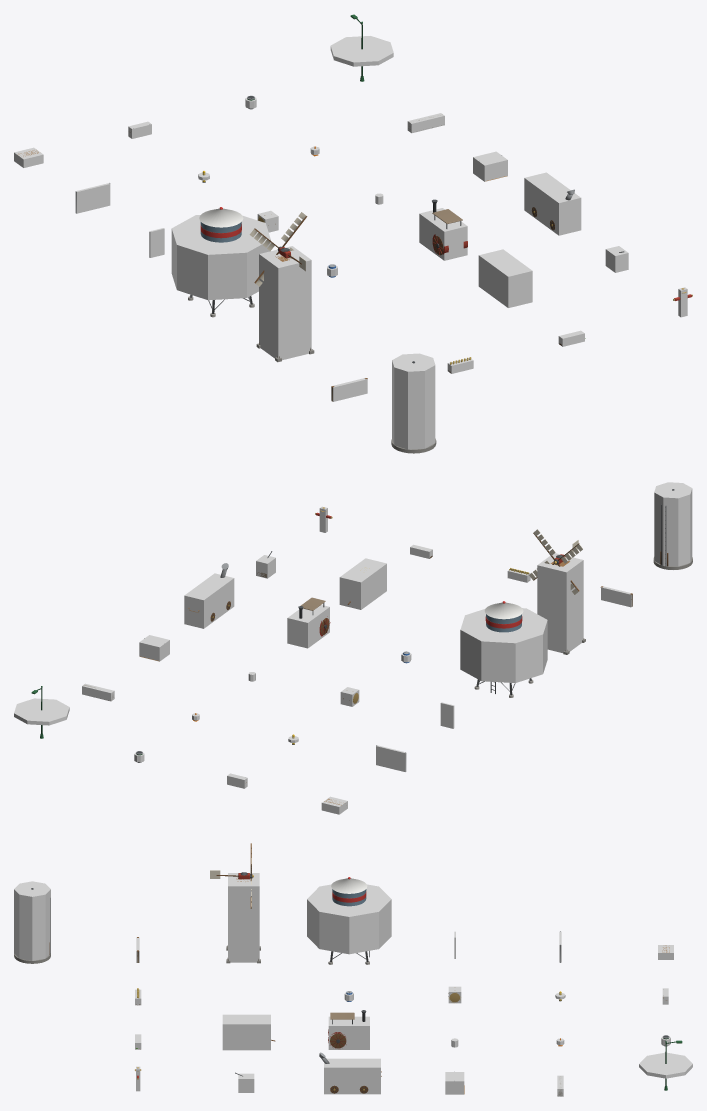
Rendered from props.glb.
3 renders of one model, top to bottom at view 1: azimuth 30°, elevation 25°; view 2: azimuth 150°, elevation 25°; view 3: azimuth 270°, elevation 25°, orthographic. The views are drawn at different scales.
Visible parts, largest first — view 1: COL_water-tower, COL_windmill, COL_silo, COL_thresher, COL_hay-wagon, COL_steam-tractor, COL_street-lamp, water-tower__Kit_Paint, COL_tent, COL_chain-link-fence-panel; view 2: COL_water-tower, COL_windmill, COL_silo, COL_thresher, COL_hay-wagon, COL_steam-tractor, COL_street-lamp, water-tower__Kit_Paint, COL_tent, COL_chain-link-fence-panel; view 3: COL_water-tower, COL_silo, COL_windmill, COL_thresher, COL_hay-wagon, COL_steam-tractor, COL_street-lamp, water-tower__Kit_Paint, COL_tent, steam-tractor__Kit_Wood.
Boxes of the visible parts, x1,y1,x2,y2 form: COL_water-tower: [171, 215, 270, 300]; COL_windmill: [259, 246, 311, 360]; COL_silo: [392, 353, 435, 449]; COL_thresher: [524, 172, 581, 235]; COL_hay-wagon: [478, 249, 532, 307]; COL_steam-tractor: [419, 208, 467, 260]; COL_street-lamp: [330, 36, 393, 66]; water-tower__Kit_Paint: [199, 207, 243, 242]; COL_tent: [473, 151, 507, 181]; COL_chain-link-fence-panel: [76, 183, 110, 213]; COL_water-tower: [460, 608, 547, 682]; COL_windmill: [537, 553, 583, 652]; COL_silo: [654, 482, 692, 566]; COL_thresher: [184, 573, 234, 628]; COL_hay-wagon: [339, 558, 386, 609]; COL_steam-tractor: [287, 605, 329, 648]; COL_street-lamp: [14, 698, 69, 725]; water-tower__Kit_Paint: [484, 601, 523, 632]; COL_tent: [139, 635, 169, 661]; COL_chain-link-fence-panel: [376, 745, 405, 771]; COL_water-tower: [307, 884, 391, 954]; COL_silo: [14, 881, 50, 960]; COL_windmill: [228, 873, 259, 962]; COL_thresher: [324, 1058, 380, 1094]; COL_hay-wagon: [222, 1014, 270, 1050]; COL_steam-tractor: [328, 1016, 369, 1049]; COL_street-lamp: [639, 1052, 692, 1078]; water-tower__Kit_Paint: [331, 877, 367, 906]; COL_tent: [445, 1072, 464, 1094]; steam-tractor__Kit_Wood: [330, 1012, 354, 1048].
Size of the model in its own units: 36.55 by 11.21 by 64.3.
